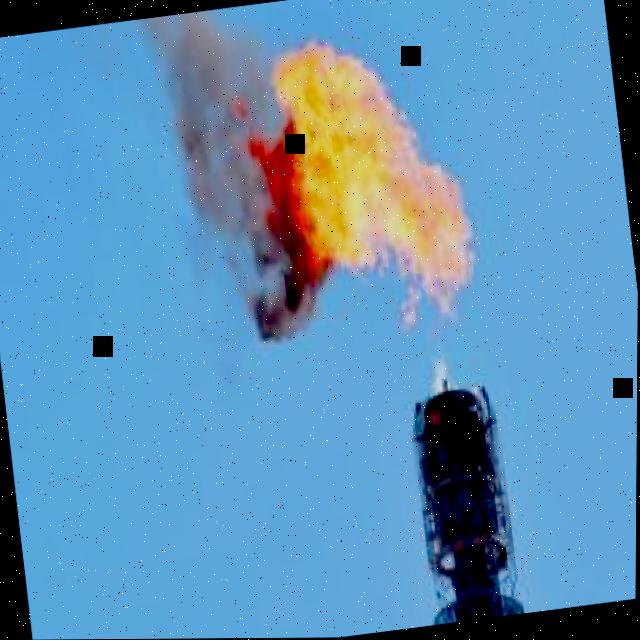fire: (267, 36, 475, 370)
smoke: (129, 10, 338, 341)
